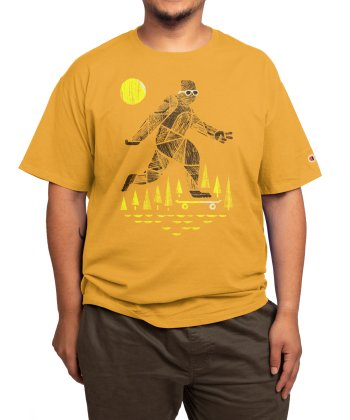design: (115, 75, 237, 240)
